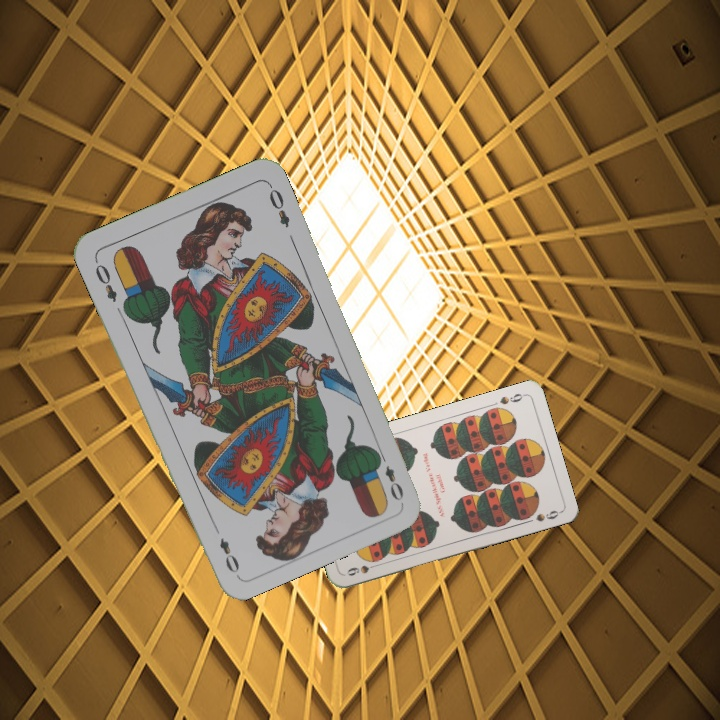EO: (374, 448, 406, 504), (90, 256, 120, 305)
S9: (343, 560, 382, 579), (496, 389, 528, 407)
